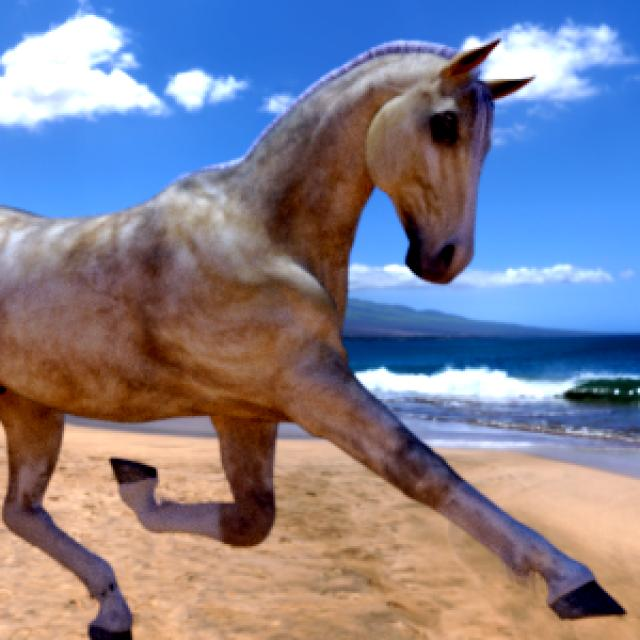horse: (0, 42, 621, 640)
